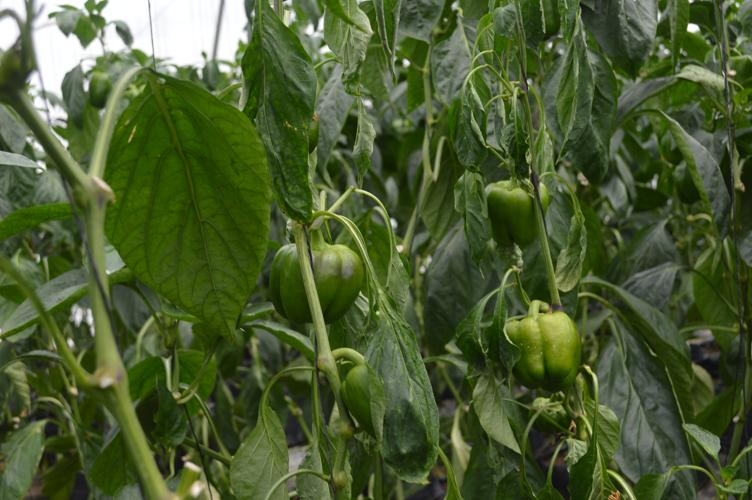BellPepper: (259, 224, 373, 321), (332, 352, 419, 453), (487, 307, 587, 386), (478, 180, 555, 260)
